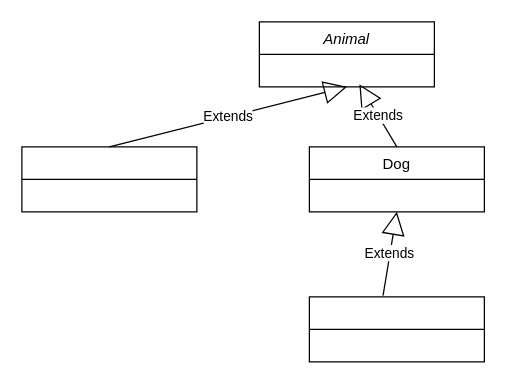
This 506x384 diagram has some shape labels left out. Here are the shapes that lost their labels. From the top down, the box of each, then its label:
(21, 146, 197, 212): Cat
(308, 296, 484, 362): BigDog
